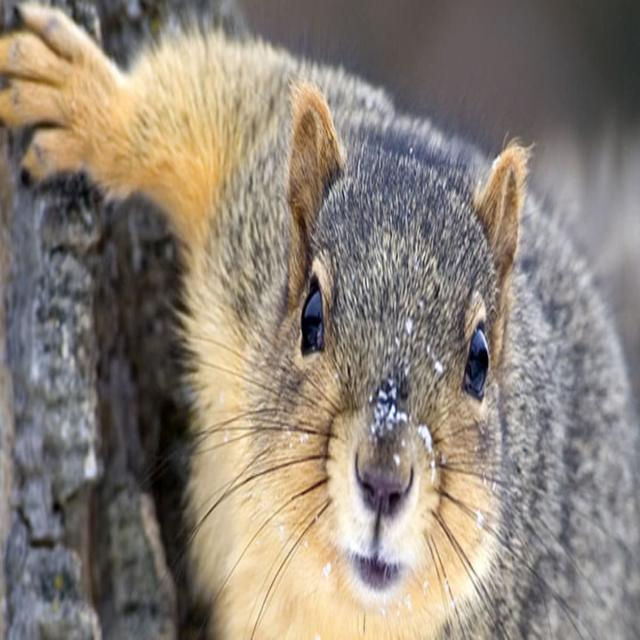Squirrel: (21, 26, 627, 640)
